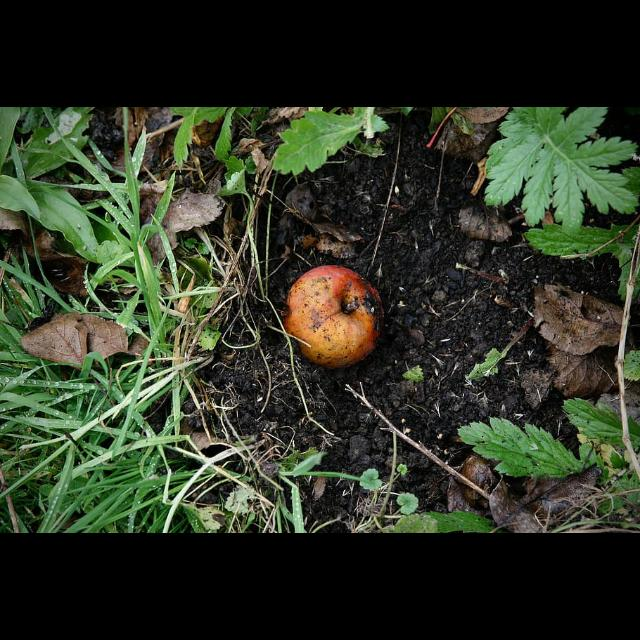Apel Tidak Segar: (271, 258, 415, 386)
